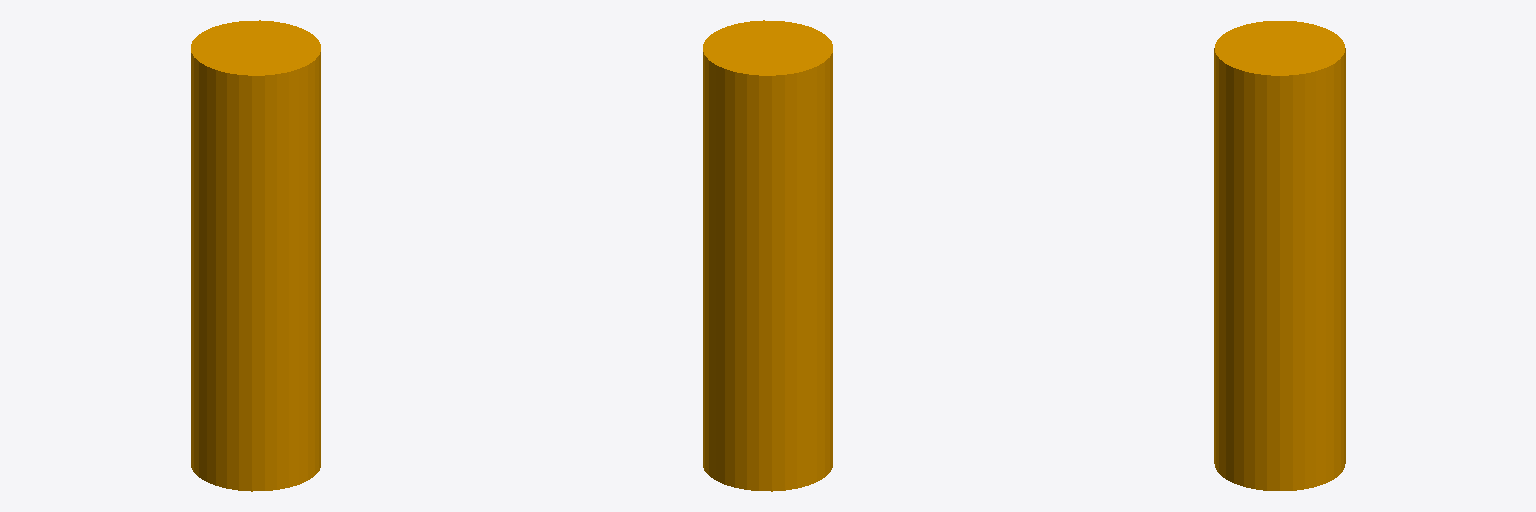
robot.urdf — bat_one:
<?xml version="1.0" encoding="utf-8"?>
<!-- =================================================================================== -->
<!-- |    This document was autogenerated by xacro from bat_one.xacro                  | -->
<!-- |    EDITING THIS FILE BY HAND IS NOT RECOMMENDED                                 | -->
<!-- =================================================================================== -->
<robot name="bat_one">
<mujoco>
    <compiler 
    meshdir="~/" 
    balanceinertia="true" 
    discardvisual="false" />
</mujoco>
  <link name="chassis">
    <pose>0 0 0 0 0 0</pose>
    <inertial>
      <mass value="2.0"/>
      <origin rpy=" 0 0 0" xyz="0.0 0 0"/>
      <inertia ixx="0.1" ixy="0" ixz="0" iyy="0.1" iyz="0" izz="0.1"/>
    </inertial>
    <collision name="collision">
      <origin rpy=" 0 0 0" xyz="0 0 0.0"/>
      <geometry>
        <cylinder length="0.35" radius="0.05"/>
      </geometry>
    </collision>
    <visual name="chassis_visual">
      <origin rpy=" 0 0 0" xyz="0 0 0"/>
      <geometry>
        <cylinder length="0.35" radius="0.05"/>
      </geometry>
    </visual>
  </link>
</robot>

--- What the picture shows (computed from the rendered views, not written in the file) ---
Views: 3 orthographic renders of the robot side by side, from view 1: azimuth 30°, elevation 25°; view 2: azimuth 150°, elevation 25°; view 3: azimuth 270°, elevation 25°.
Robot: bat_one — 1 links, 0 joints (none); root link chassis; default pose: all joints at 0.
Visible links, largest first — view 1: chassis; view 2: chassis; view 3: chassis.
Link boxes in pixels (left/top/right/bottom): chassis: left=191, top=20, right=320, bottom=491; chassis: left=703, top=20, right=832, bottom=491; chassis: left=1214, top=21, right=1345, bottom=490.
Bounding box of the posed robot: 0.1 × 0.1 × 0.35 m (x, y, z).
Geometry: primitives only (box / cylinder / sphere), no mesh files.